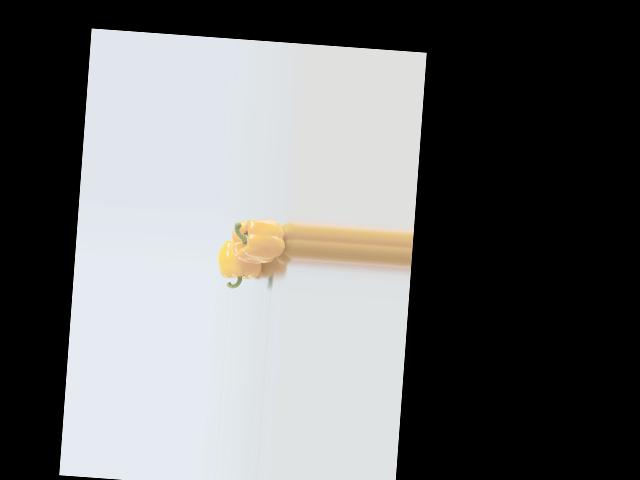bell_pepper: (215, 237, 271, 290)
